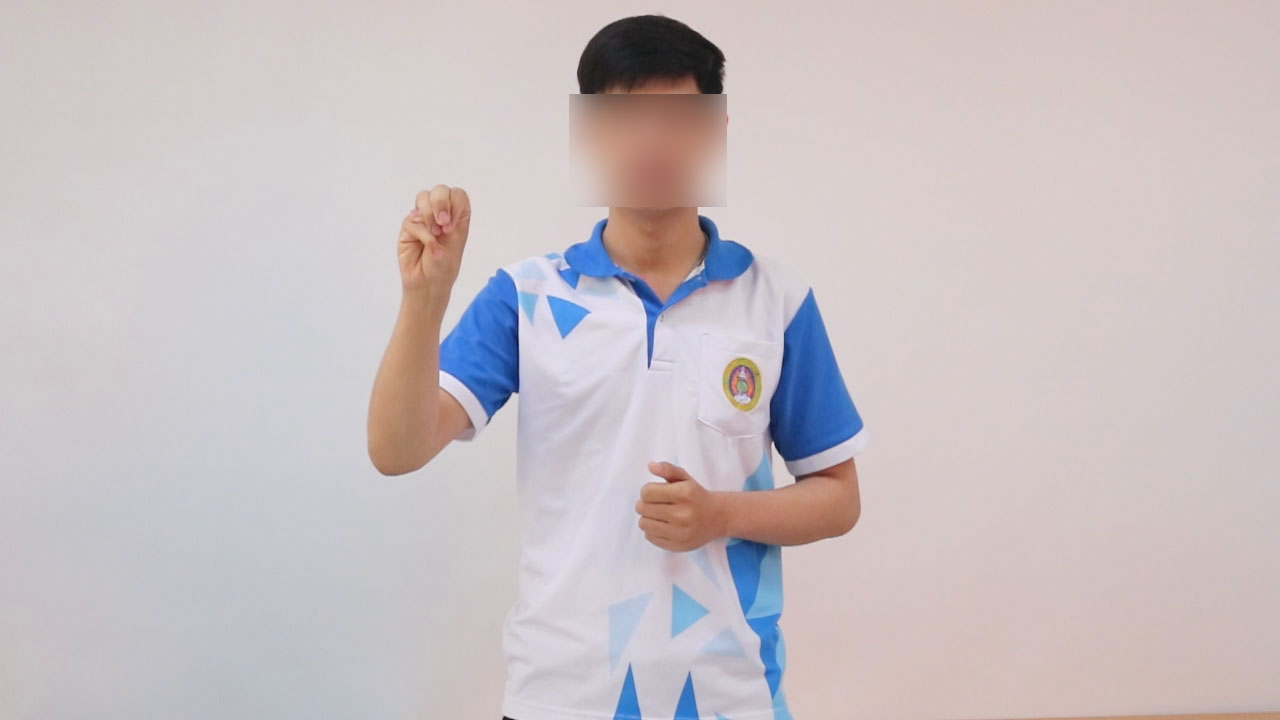mor: (387, 164, 480, 316)
